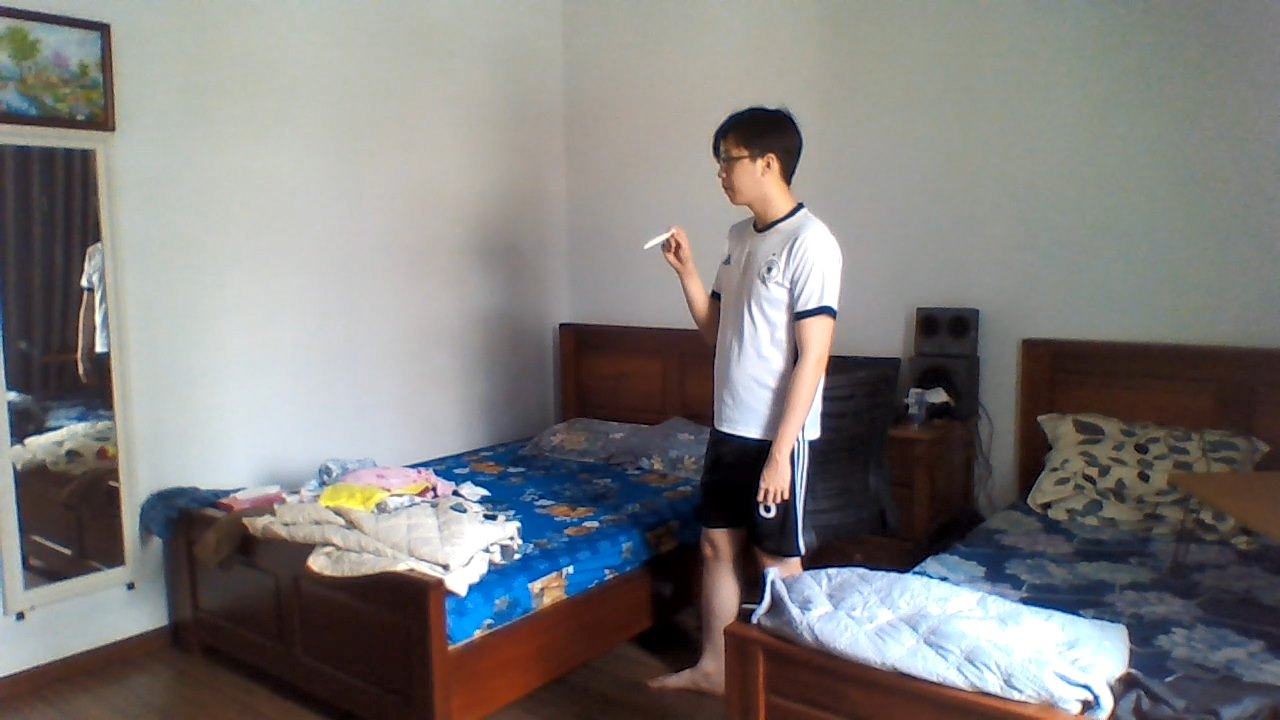cigarette: (644, 233, 674, 248)
person: (667, 91, 860, 573)
